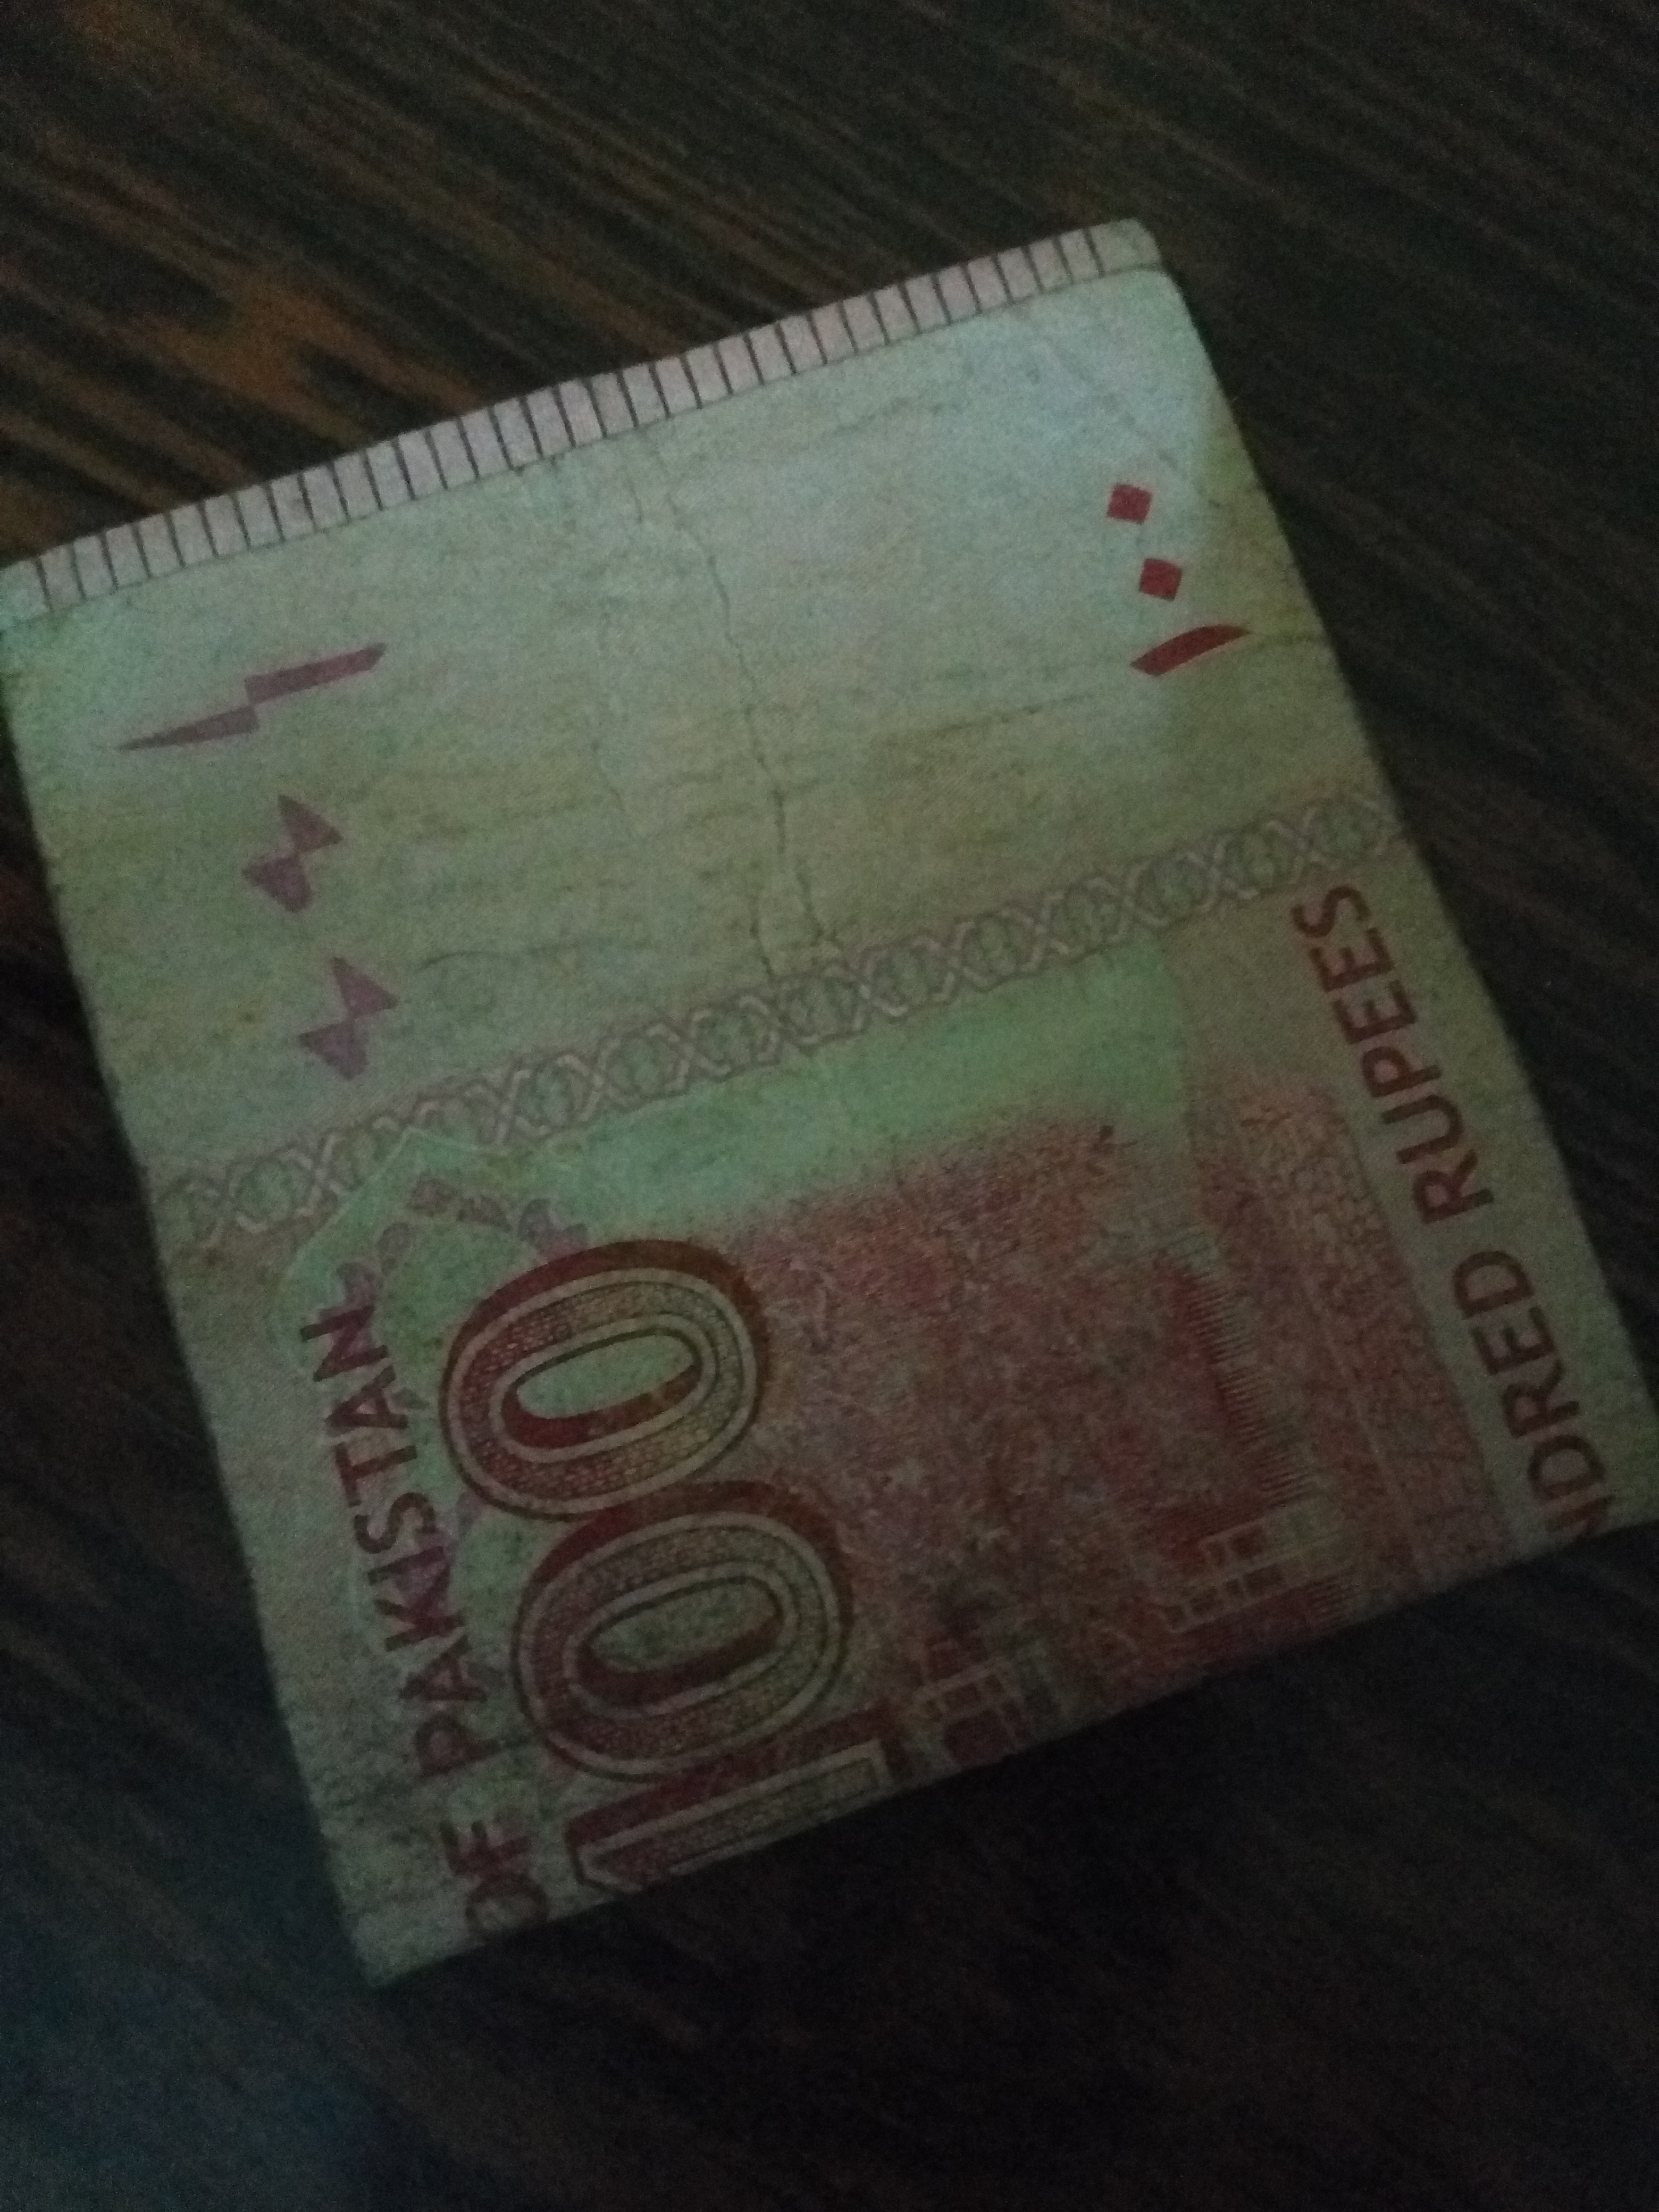100 rupee: (35, 188, 1659, 1982)
